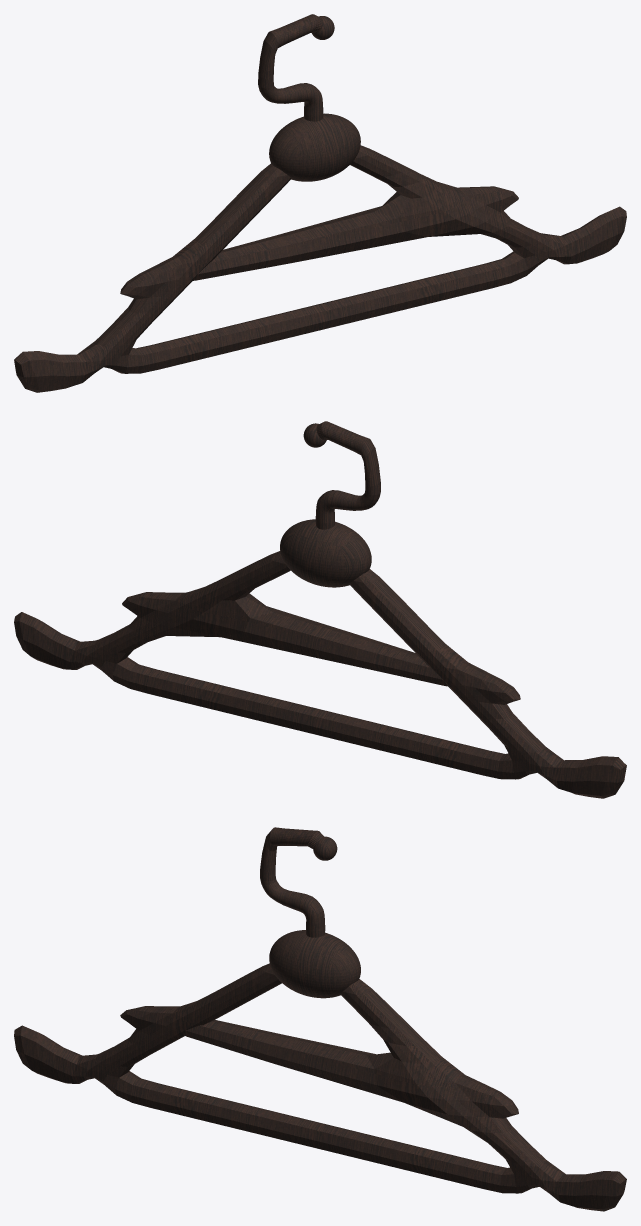
Rendered from vehalka.fbx.
The picture shows the model from 3 angles, top to bottom: view 1: azimuth 30°, elevation 25°; view 2: azimuth 150°, elevation 25°; view 3: azimuth 330°, elevation 25°; orthographic projection.
Parts seen in each view (by area): view 1: Sphere; view 2: Sphere; view 3: Sphere.
Part boxes in pixels (x1,y1,x2,y2): Sphere: (14, 14, 626, 392); Sphere: (14, 421, 626, 798); Sphere: (14, 827, 626, 1211).
Size of the model in its own units: 1397 by 687 by 123.
